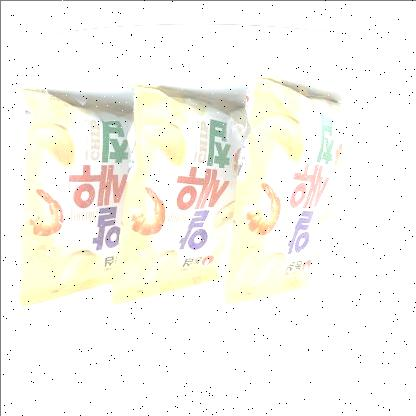Others: (7, 61, 354, 315)
